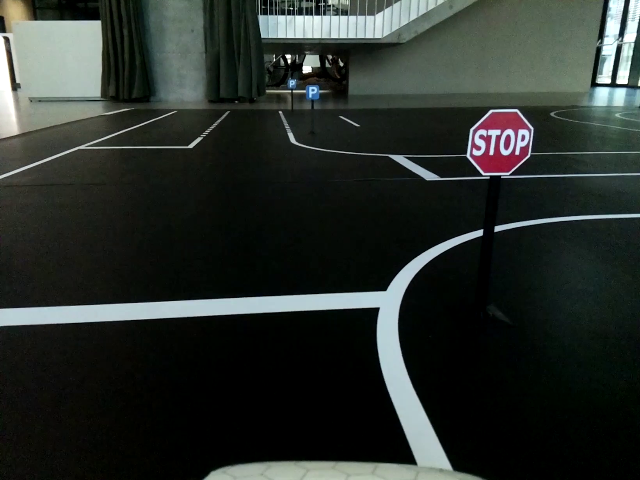stop: (468, 111, 533, 177)
